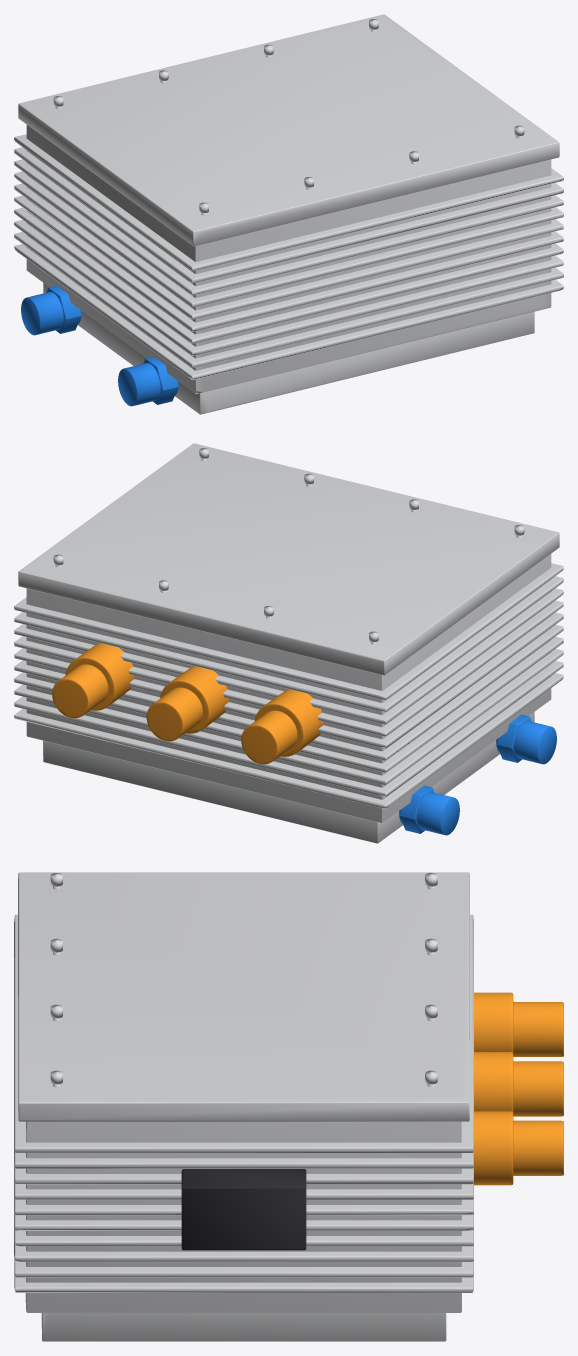
Rendered from edu_inverter_sic.glb.
3 renders of one model, top to bottom at view 1: azimuth 30°, elevation 25°; view 2: azimuth 150°, elevation 25°; view 3: azimuth 270°, elevation 25°, orthographic. The views are drawn at different scales.
Parts seen in each view (by area): view 1: Inverter_Enclosure, Coolant_Port_0.08, Coolant_Port_-0.08; view 2: Inverter_Enclosure, HV_Phase_Gland_3, HV_Phase_Gland_1, HV_Phase_Gland_2, Coolant_Port_-0.08, Coolant_Port_0.08; view 3: Inverter_Enclosure, LV_Deutsch_Connector, HV_Phase_Gland_3, HV_Phase_Gland_2, HV_Phase_Gland_1.
Boxes of the visible parts, x1,y1,x2,y2 form: Inverter_Enclosure: [14, 14, 563, 414]; Coolant_Port_0.08: [21, 285, 81, 335]; Coolant_Port_-0.08: [118, 356, 178, 406]; Inverter_Enclosure: [14, 443, 563, 843]; HV_Phase_Gland_3: [52, 643, 134, 718]; HV_Phase_Gland_1: [241, 689, 323, 764]; HV_Phase_Gland_2: [146, 666, 229, 741]; Coolant_Port_-0.08: [496, 714, 556, 764]; Coolant_Port_0.08: [399, 785, 459, 835]; Inverter_Enclosure: [14, 872, 473, 1341]; LV_Deutsch_Connector: [181, 1169, 306, 1250]; HV_Phase_Gland_3: [474, 1111, 563, 1185]; HV_Phase_Gland_2: [474, 1052, 563, 1116]; HV_Phase_Gland_1: [474, 992, 563, 1056].
Bounding box in the file's own units: 0.3974 × 0.1888 × 0.3524.
